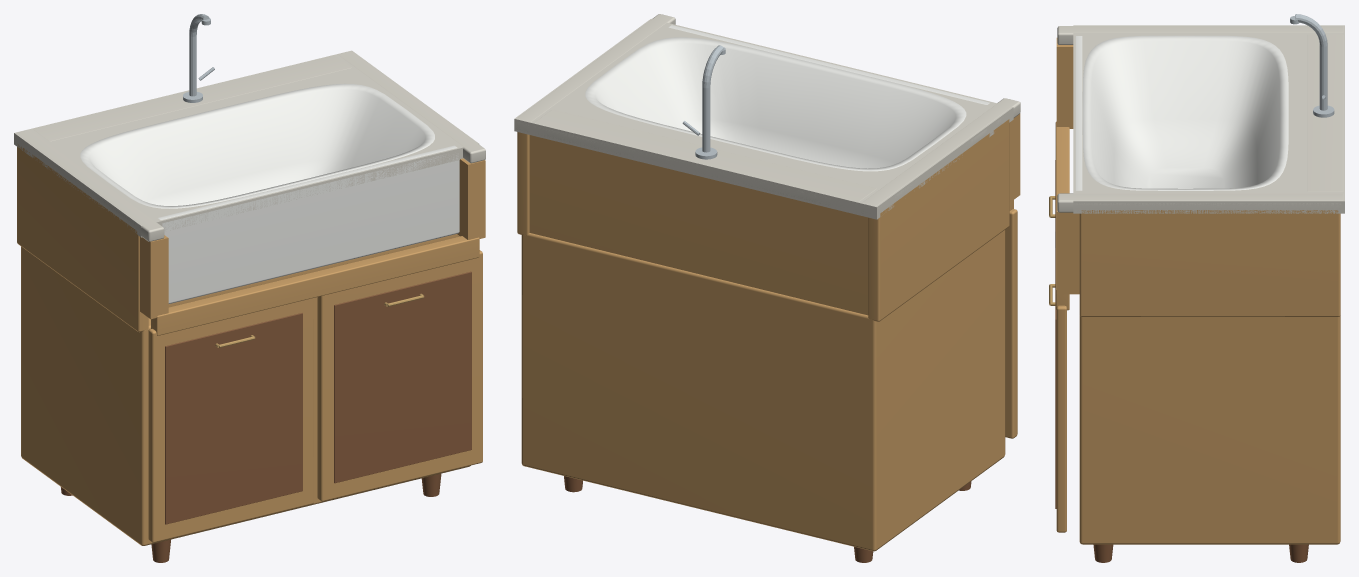
Rendered from designed-sink-farmhouse.glb.
3 views of the same model, side by side, from view 1: azimuth 30°, elevation 25°; view 2: azimuth 150°, elevation 25°; view 3: azimuth 270°, elevation 25° (orthographic). The views are drawn at different scales.
Visible parts, largest first — view 1: catalog_surface_RealismUV, catalog_surface_UVMap; view 2: catalog_surface_RealismUV, catalog_surface_UVMap; view 3: catalog_surface_RealismUV, catalog_surface_UVMap.
Boxes of the visible parts, x1=… form: catalog_surface_RealismUV: x1=17, y1=14, x2=485, y2=562; catalog_surface_UVMap: x1=14, y1=50, x2=485, y2=241; catalog_surface_RealismUV: x1=517, y1=25, x2=1020, y2=562; catalog_surface_UVMap: x1=514, y1=14, x2=1020, y2=219; catalog_surface_RealismUV: x1=1049, y1=14, x2=1340, y2=562; catalog_surface_UVMap: x1=1057, y1=25, x2=1344, y2=213.
Bounding box in the file's own units: 0.914 × 1.15 × 0.65.
